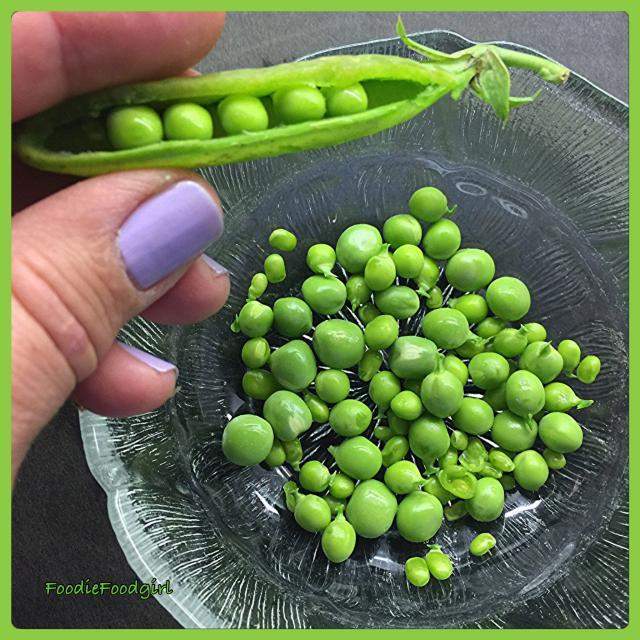Peas: (377, 432, 506, 527), (449, 232, 513, 293), (334, 212, 387, 283), (219, 412, 280, 472), (487, 267, 540, 321), (514, 338, 568, 386), (270, 290, 316, 344), (402, 552, 460, 588), (412, 180, 454, 225), (284, 495, 346, 523), (390, 389, 428, 422), (255, 254, 295, 279), (266, 222, 303, 249)
